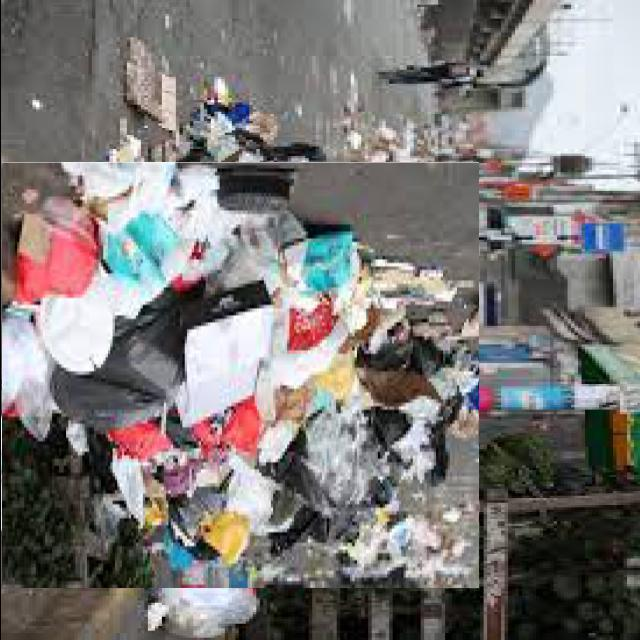Trashbag: (109, 299, 178, 423)
